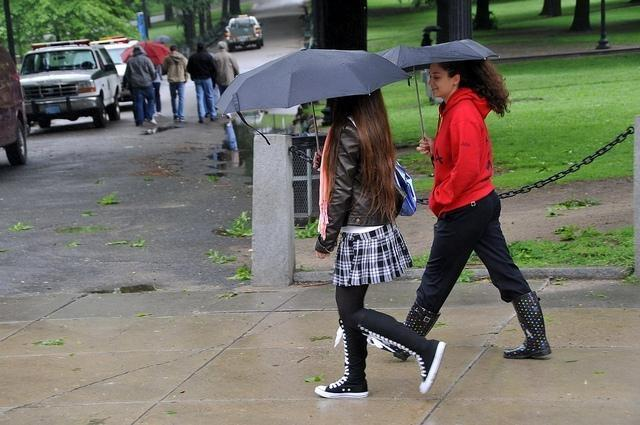car: (0, 44, 28, 166), (96, 36, 139, 102)
truck: (16, 39, 124, 130), (224, 14, 264, 52)
